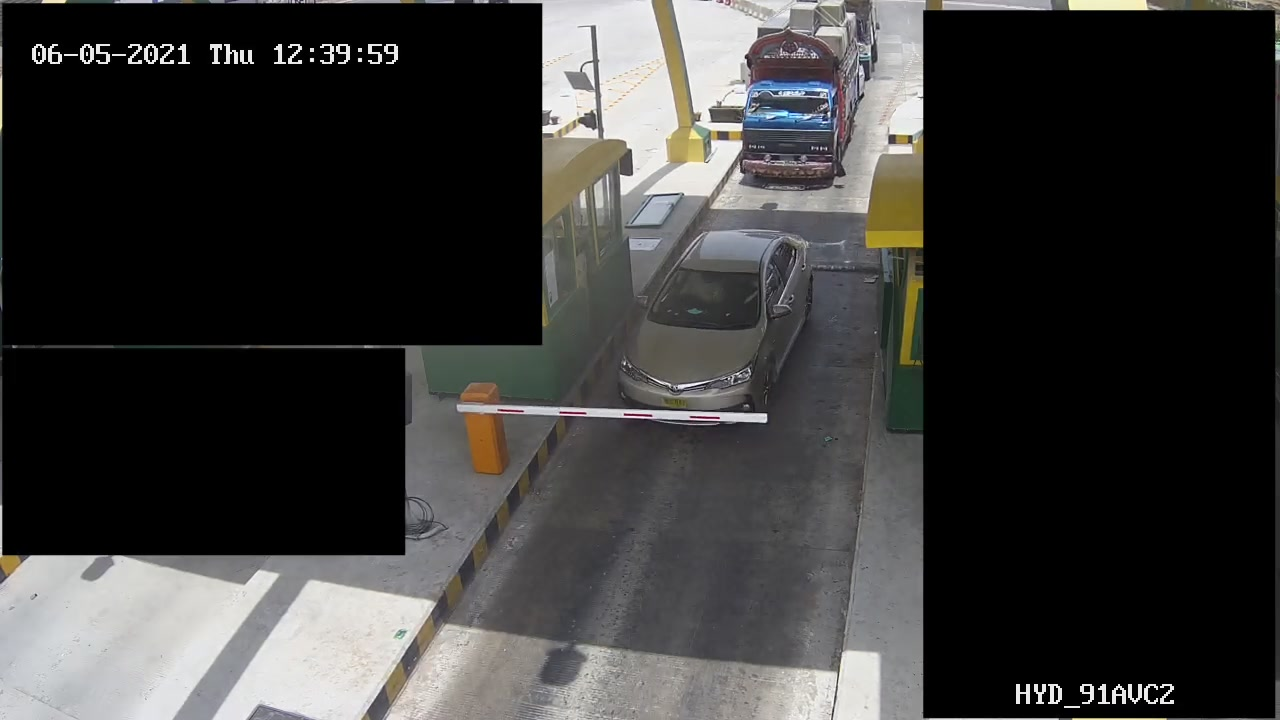F1: (608, 214, 823, 426)
F5: (737, 2, 870, 190)
